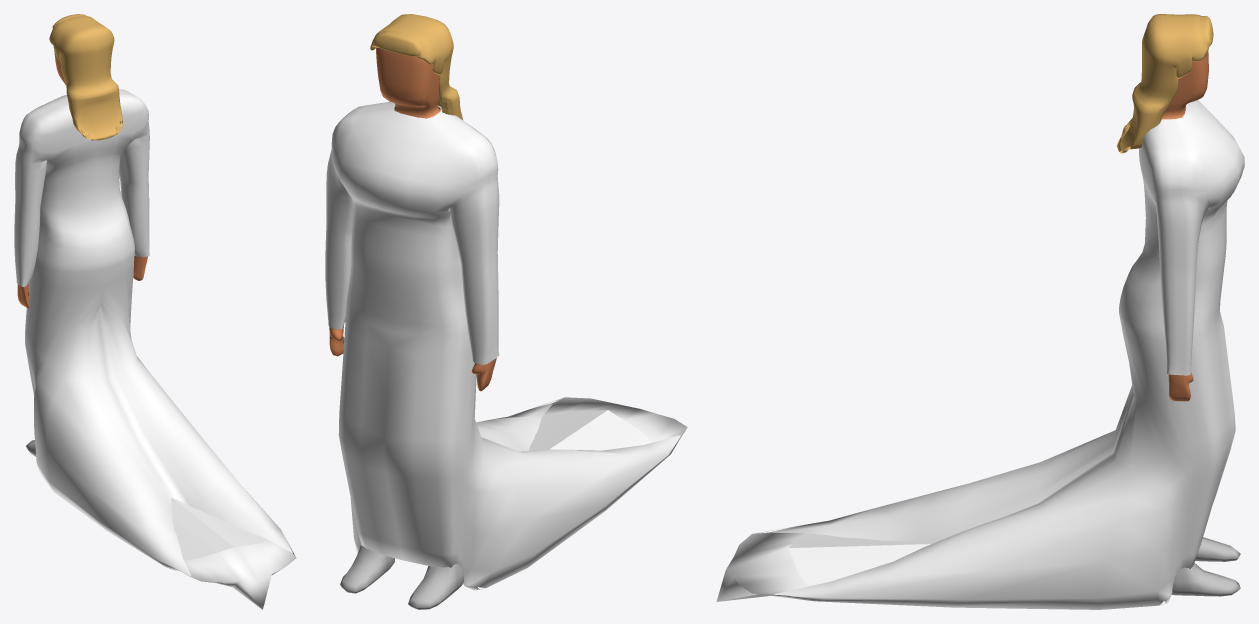
Rendered from bride.glb.
The picture shows the model from 3 angles, left to right: view 1: azimuth 30°, elevation 25°; view 2: azimuth 150°, elevation 25°; view 3: azimuth 270°, elevation 25°; orthographic projection. The views are drawn at different scales.
Visible parts, largest first — view 1: dress, hair, bride; view 2: dress, bride, hair, shoes; view 3: dress, hair, shoes, bride.
Part boxes in pixels (left/top/right/bottom): dress: left=14, top=89, right=296, bottom=609; hair: left=49, top=14, right=122, bottom=140; bride: left=17, top=51, right=147, bottom=307; dress: left=325, top=101, right=687, bottom=590; bride: left=329, top=47, right=496, bottom=391; hair: left=370, top=14, right=462, bottom=119; shoes: left=340, top=545, right=464, bottom=609; dress: left=716, top=100, right=1244, bottom=609; hair: left=1117, top=14, right=1213, bottom=153; shoes: left=1171, top=537, right=1240, bottom=596; bride: left=1162, top=51, right=1208, bottom=401.
Bounding box in the file's own units: 31.47 × 102 × 83.62.
